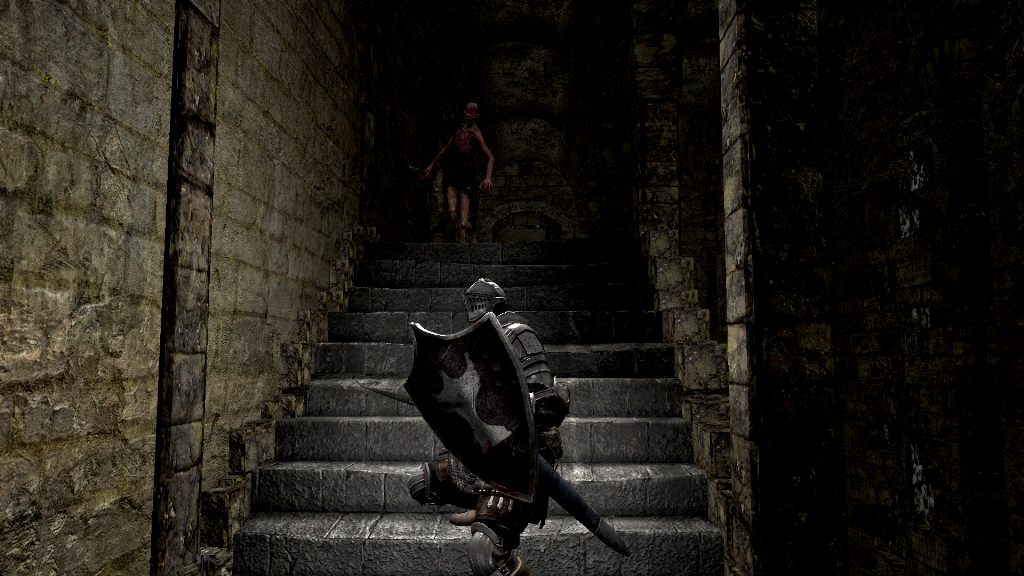hollow: (423, 101, 495, 243)
player: (358, 276, 571, 576)
